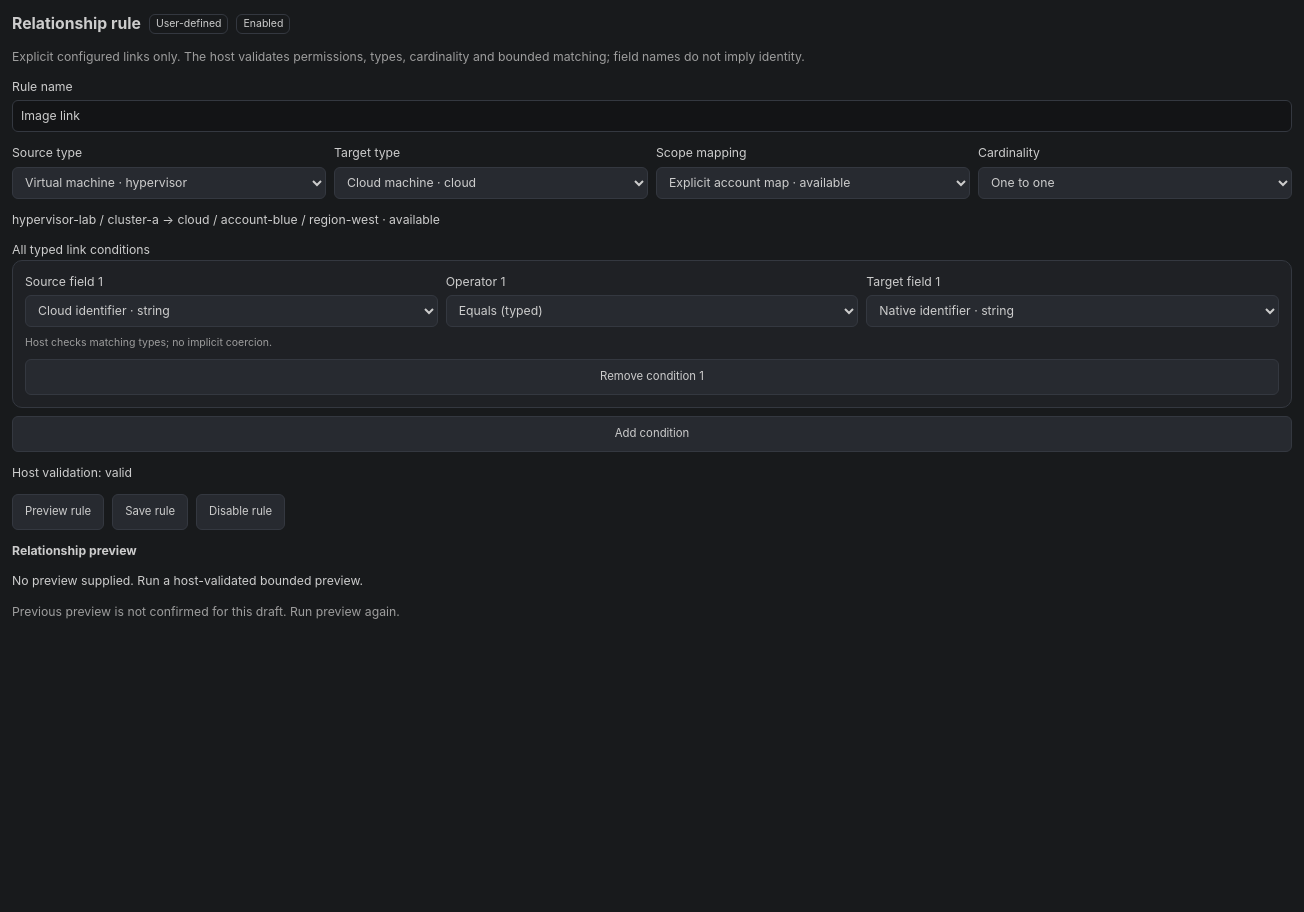
Scenario: RelationshipRuleEditor › cancels preview requests and ignores late failures from canceled requests
The width and height of the screenshot is (1304, 912).
Step 1. Click the button "Preview rule" → click(58, 512), box [12,494,104,530]
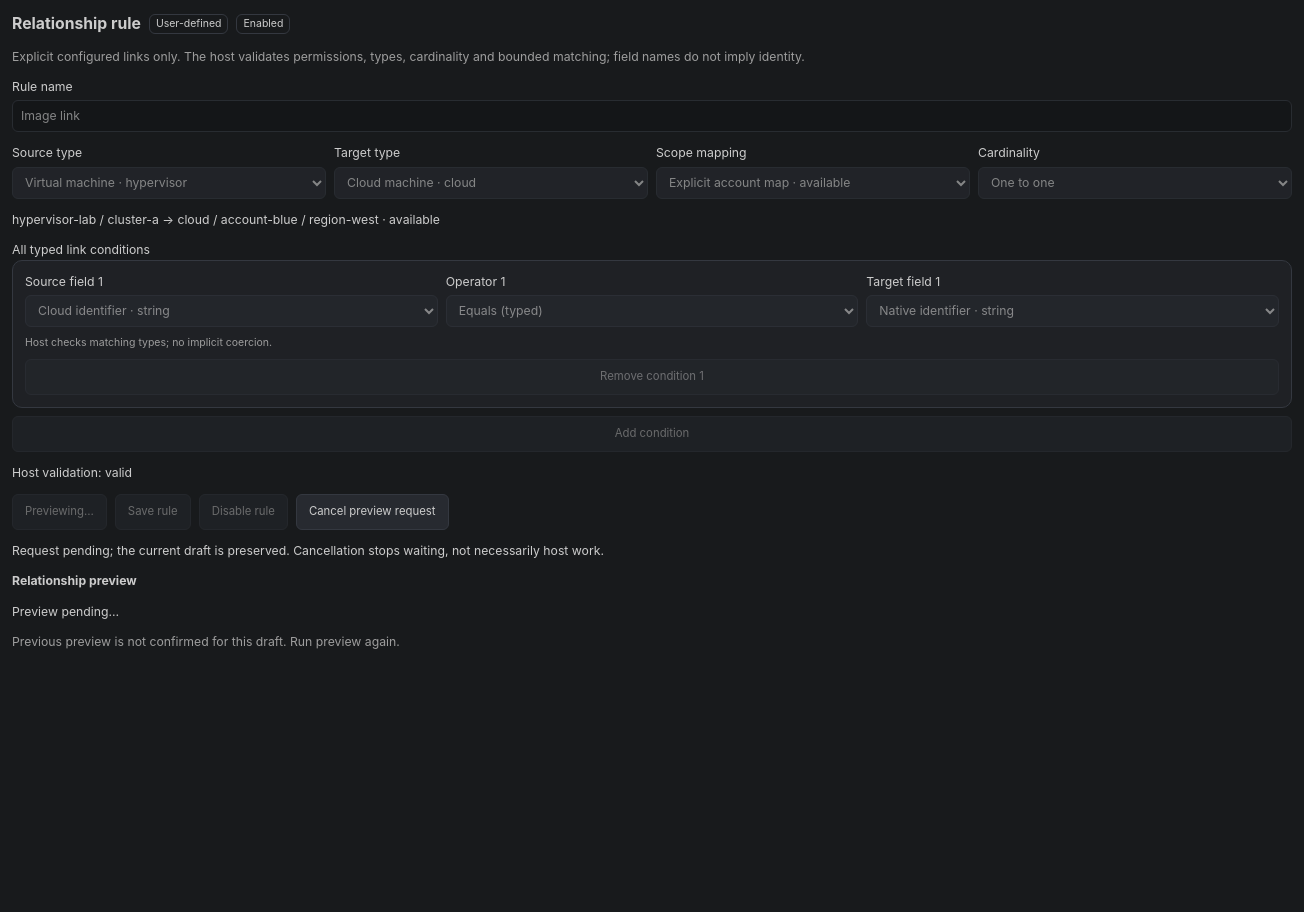
Step 2. Click the button "Cancel preview request" → click(372, 512), box [296,494,449,530]
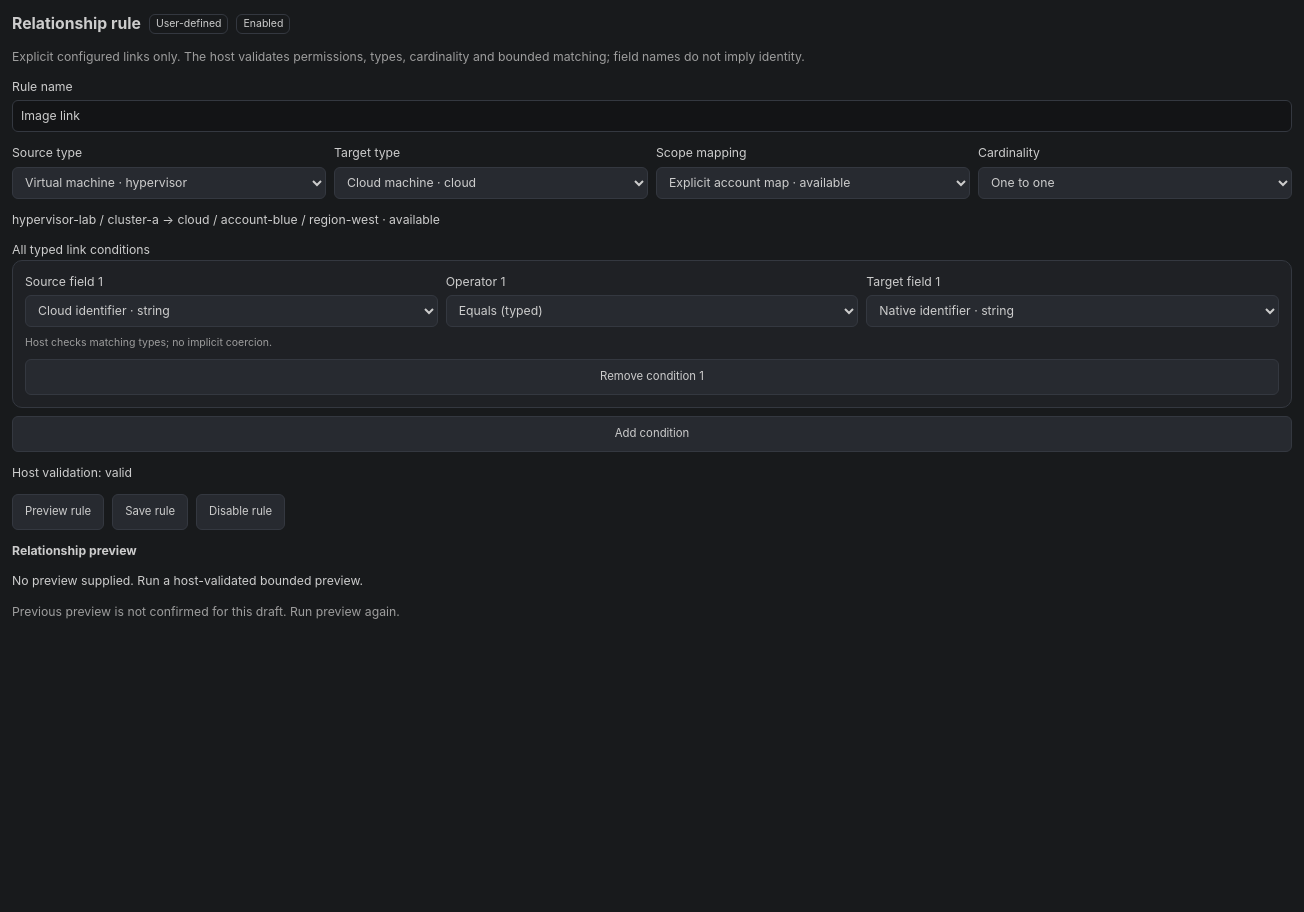
Expected: the button "Preview rule" is enabled, [12,494,104,530]
